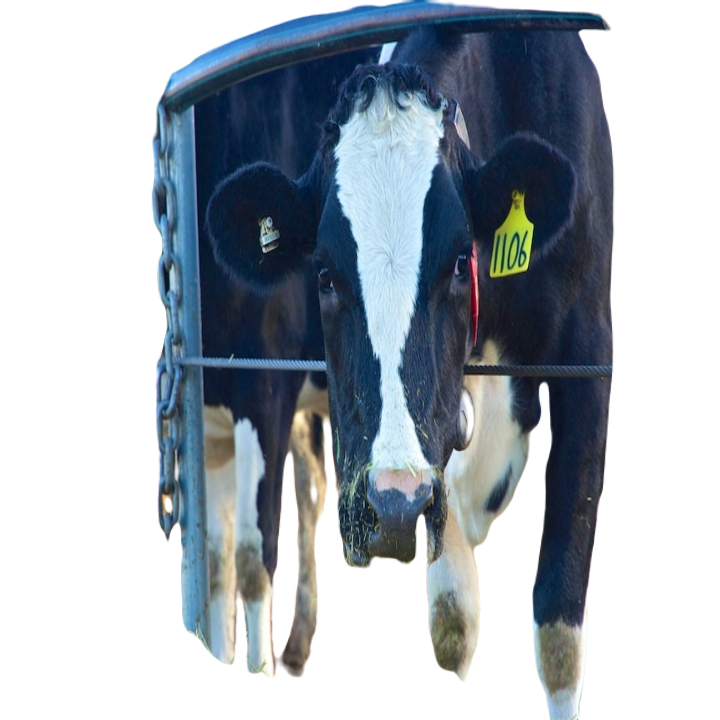Cow: (204, 63, 616, 633)
